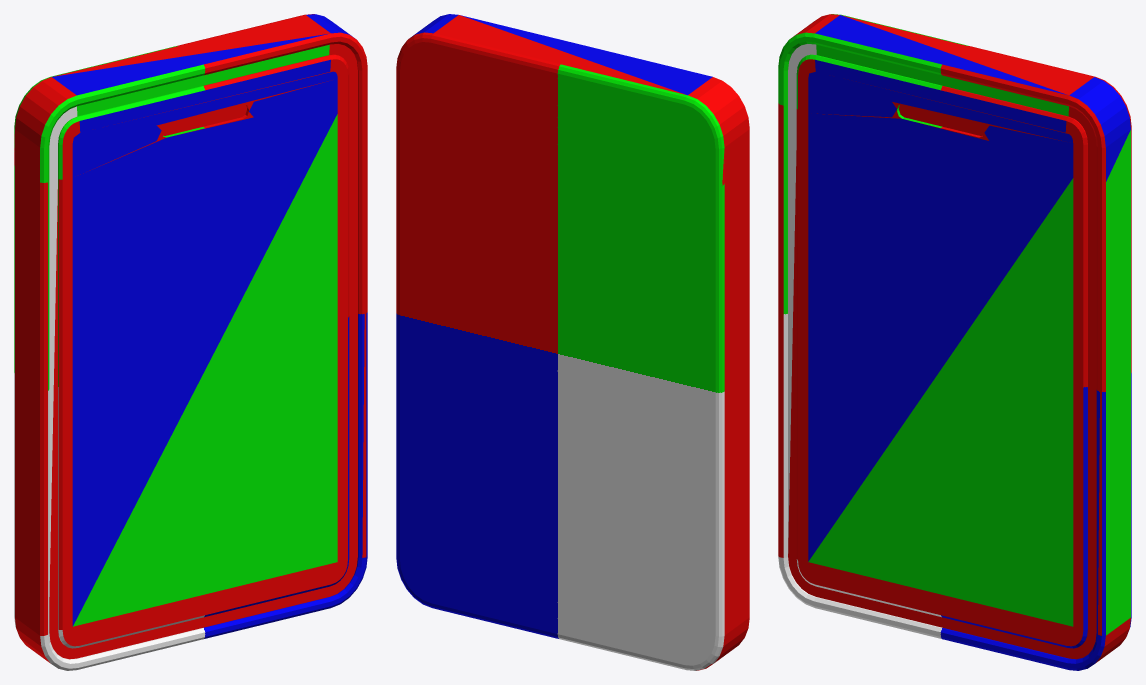
Rendered from base-app.glb.
3 renders of one model, left to right at view 1: azimuth 30°, elevation 25°; view 2: azimuth 150°, elevation 25°; view 3: azimuth 330°, elevation 25°, orthographic.
Parts seen in each view (by area): view 1: Base_App; view 2: Base_App; view 3: Base_App.
Part boxes in pixels (<box>): Base_App: <box>14,14,367,670</box>; Base_App: <box>396,14,749,670</box>; Base_App: <box>778,14,1131,670</box>.
Size of the model in its own units: 1.19 by 2 by 0.1865.
Materials: 1 (1 with a texture image).
